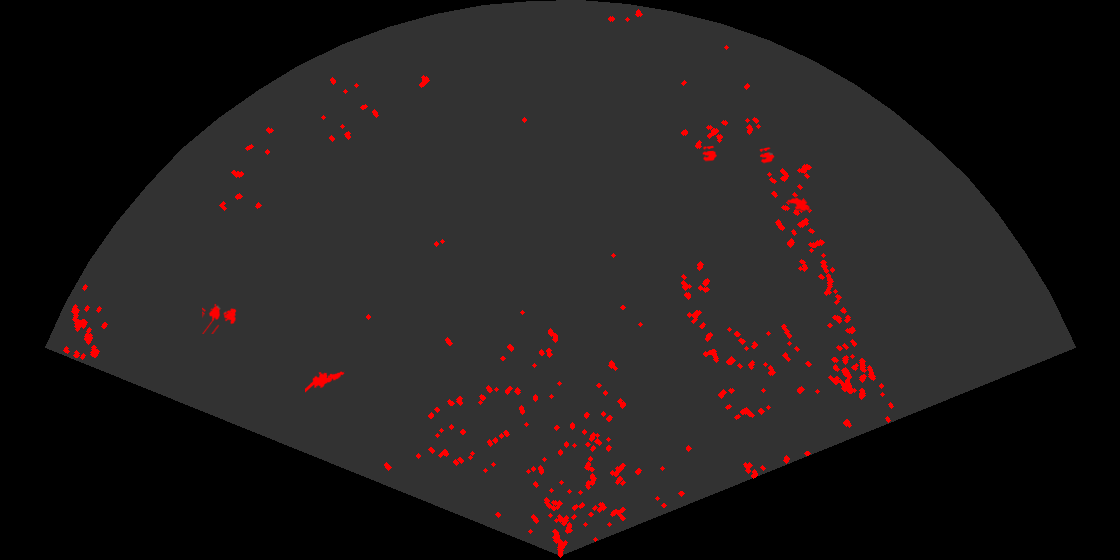AUV: (786, 196, 811, 213)
ball: (758, 146, 776, 165), (701, 144, 718, 162)
cage: (202, 302, 238, 334)
frogman: (305, 369, 345, 394)
